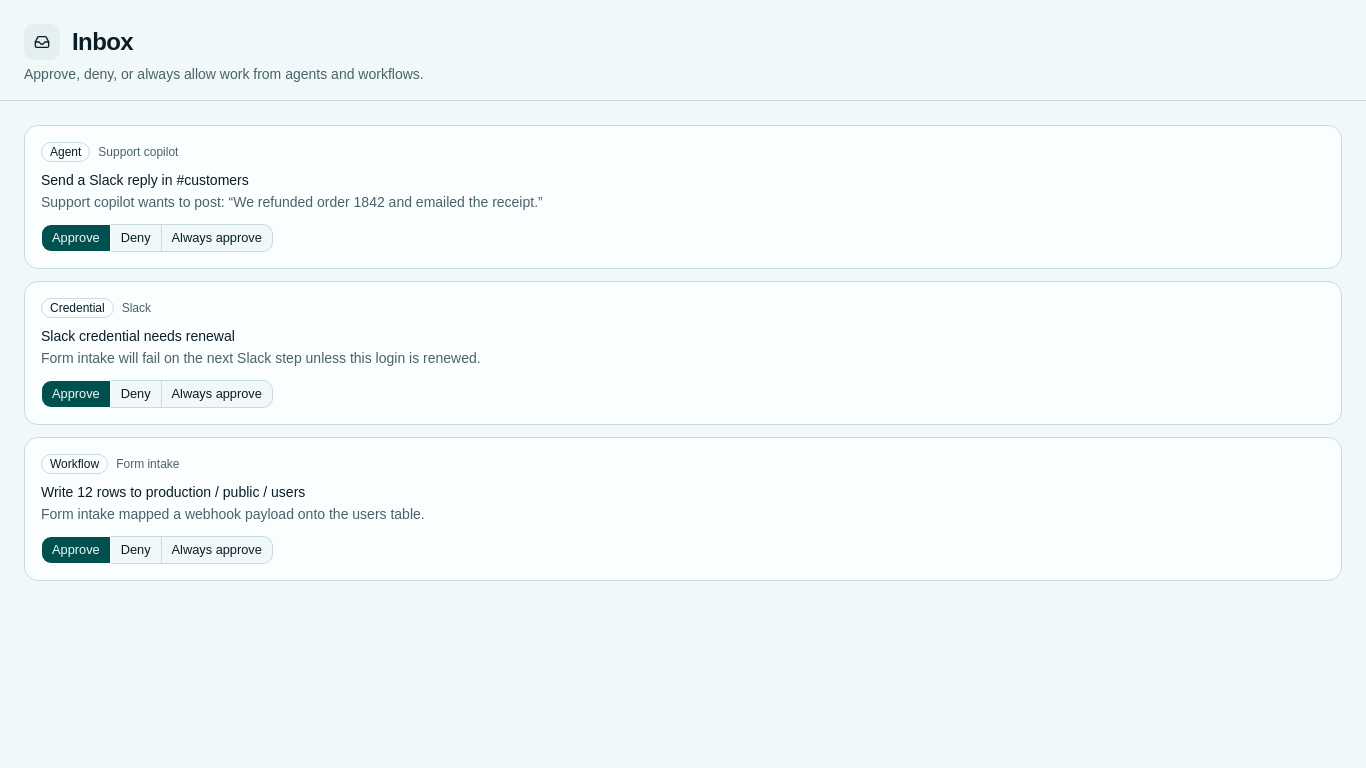
it: InboxPage › removes a card after approve and updates the pending count
Expected: the heading "Send a Slack reply in #customers" is shown, [41,172,249,188]
Click the button with aria-label "Approve: Send a Slack reply in #customers" at [76, 238], box [41,224,111,252]
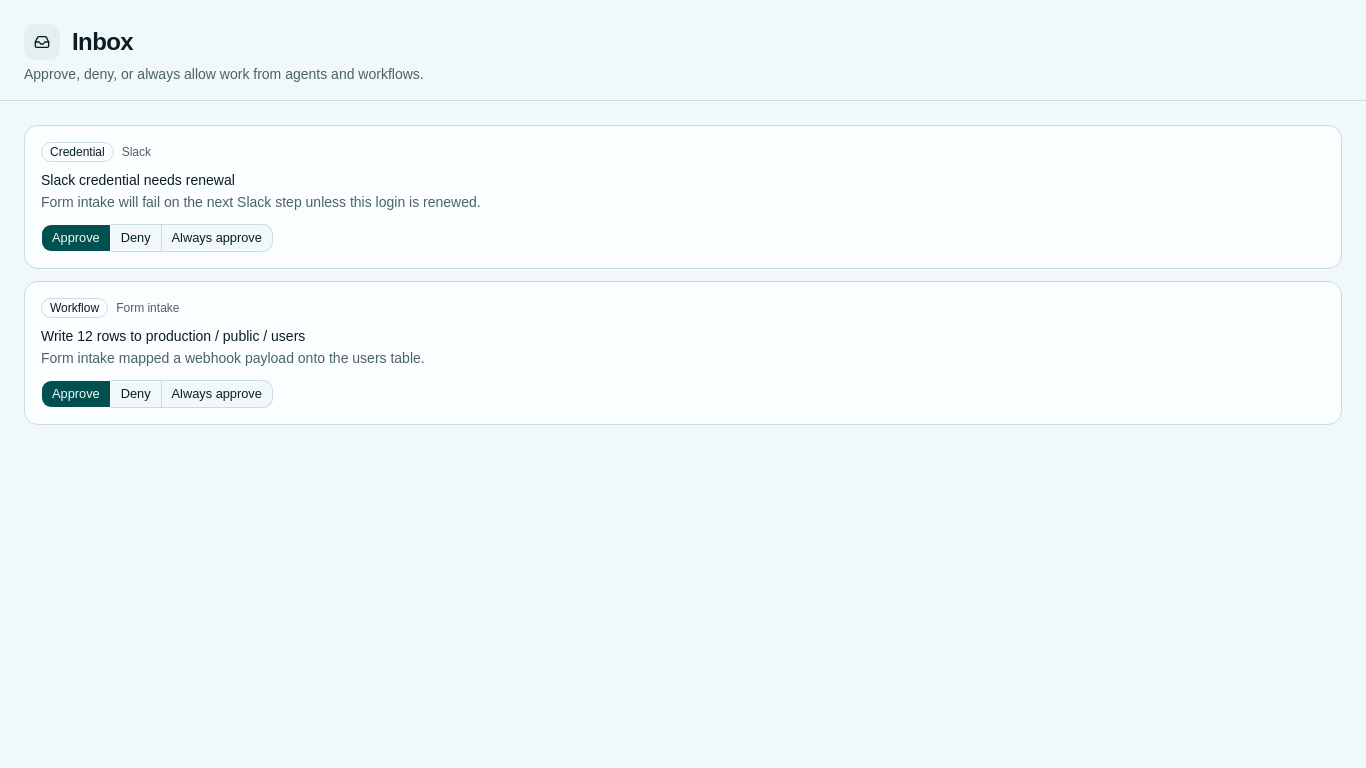
Expected: the heading "Send a Slack reply in #customers" is gone
